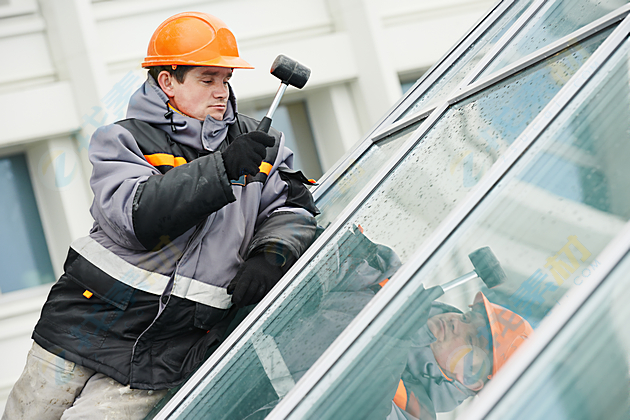safetyhat: (59, 10, 323, 359)
